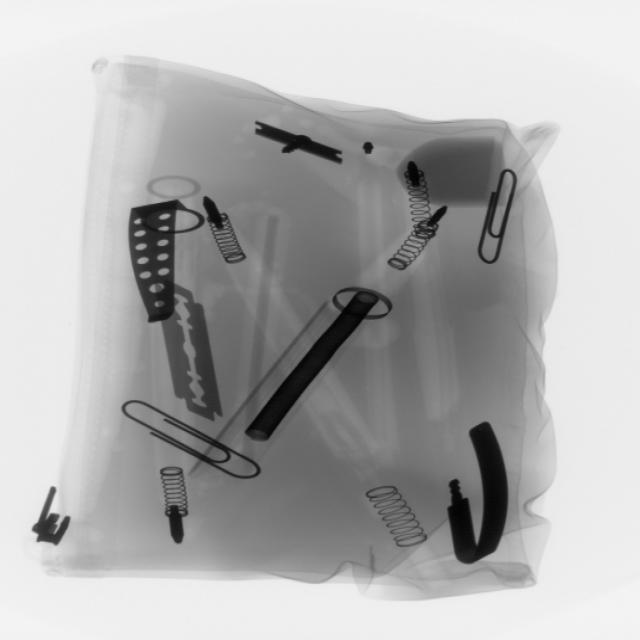BLADE: (152, 275, 226, 430)
